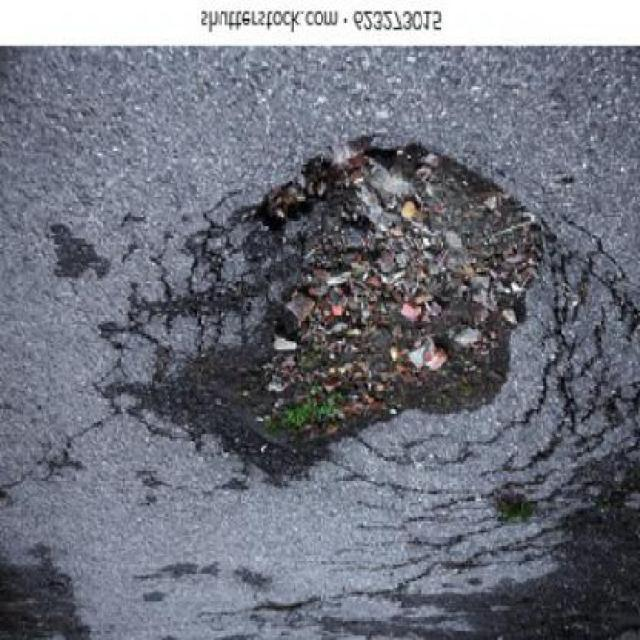Pothole: (195, 127, 554, 463)
